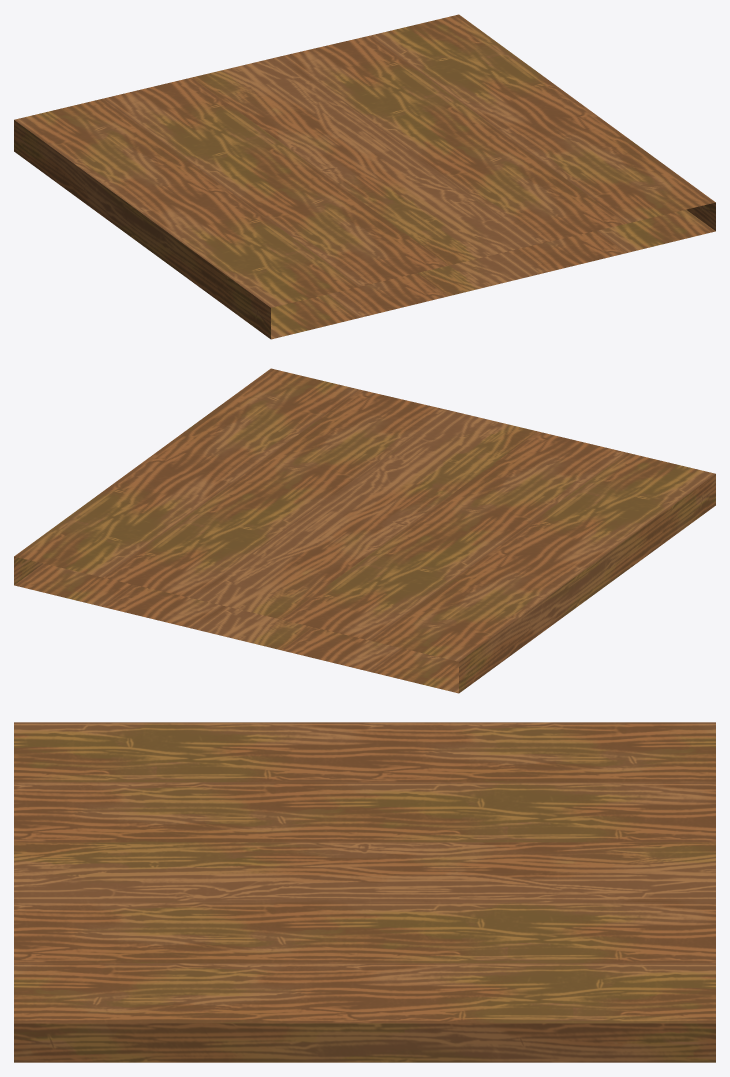
The model's file is roof_wooden_2x1_middle.gltf.
3 views of the same model, one above another, from view 1: azimuth 30°, elevation 25°; view 2: azimuth 150°, elevation 25°; view 3: azimuth 270°, elevation 25° (orthographic). The views are drawn at different scales.
Parts seen in each view (by area): view 1: Roof_Wooden_2x1_Middle; view 2: Roof_Wooden_2x1_Middle; view 3: Roof_Wooden_2x1_Middle.
Part boxes in pixels (x1,y1,x2,y2): Roof_Wooden_2x1_Middle: [14, 14, 715, 339]; Roof_Wooden_2x1_Middle: [14, 368, 715, 693]; Roof_Wooden_2x1_Middle: [14, 722, 715, 1062].
Size of the model in its own units: 2 by 0.1379 by 2.
1 material, 1 textured.
